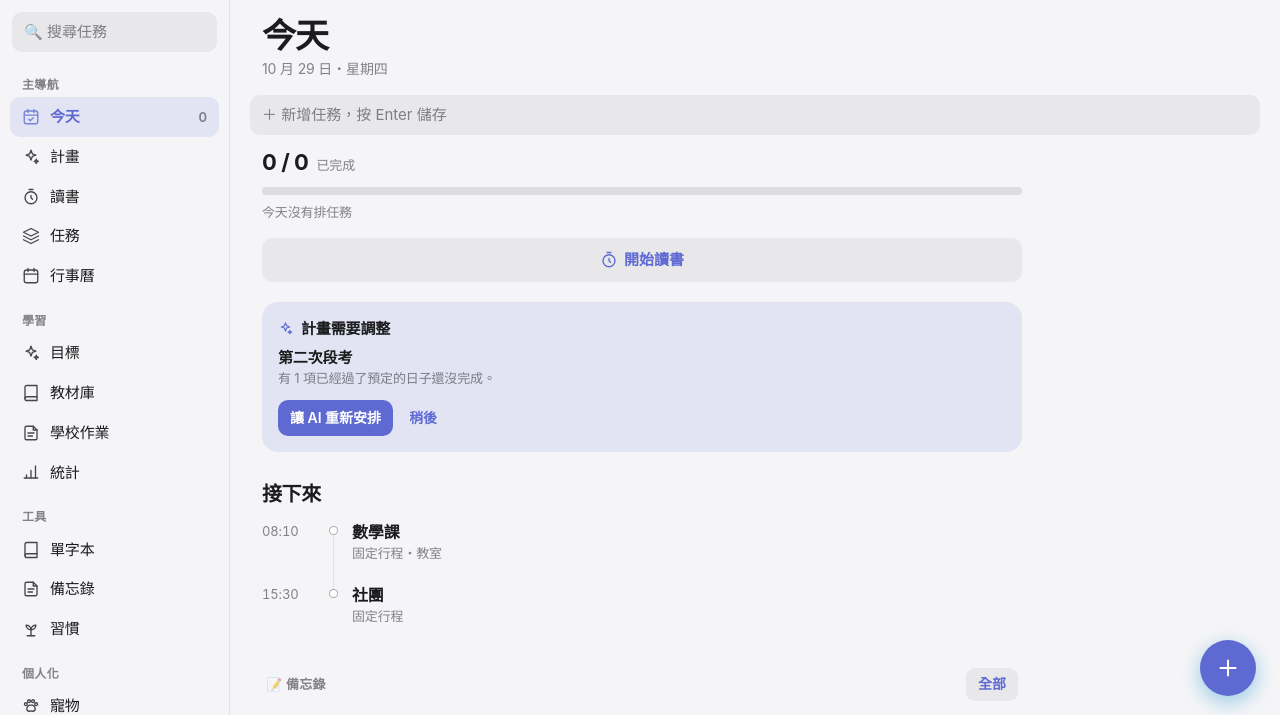
Test: 什麼時候顯示「計畫需要調整」 › 7. 「稍後」只收起提示，不動任何資料
Expected: the heading "今天" is shown, 262,15 -> 328,56
Click the button "稍後": coordinates (423, 418) 401,400 -> 445,436
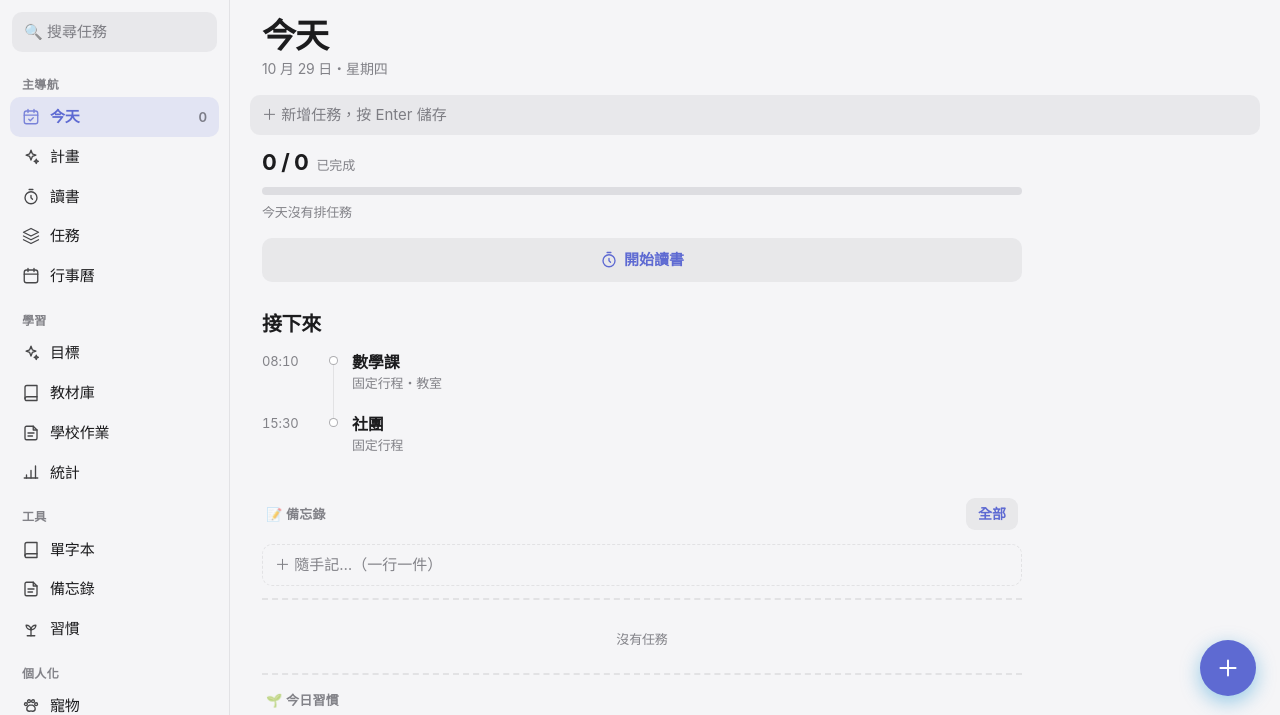
Result: the text "計畫需要調整" is gone
